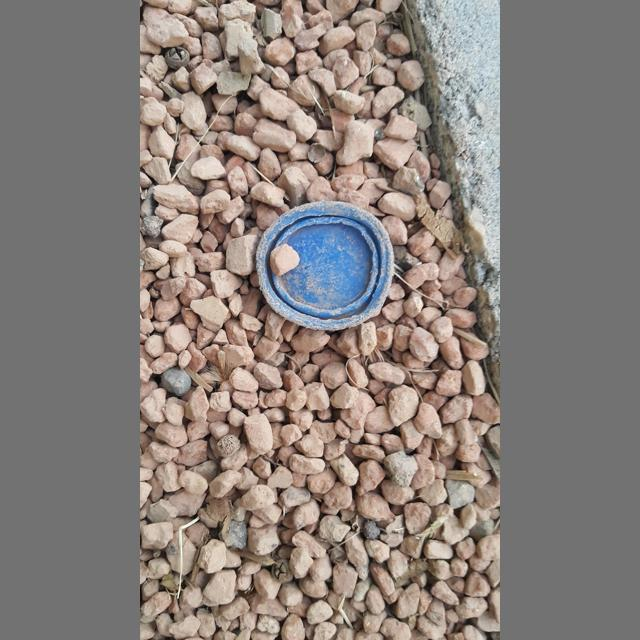litter: (257, 201, 393, 330)
